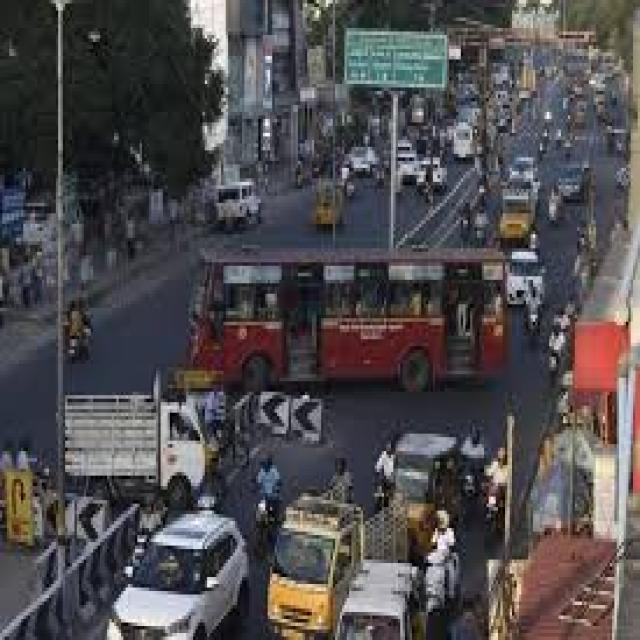bus: (189, 248, 505, 392)
car: (109, 511, 247, 640), (335, 560, 417, 640), (507, 248, 542, 304), (216, 182, 258, 227), (556, 157, 582, 203)
motorcycle: (426, 549, 456, 612), (458, 455, 482, 528), (484, 483, 503, 556), (254, 500, 275, 560), (67, 329, 88, 360)
person: (256, 458, 279, 518), (323, 458, 351, 504), (67, 301, 88, 357), (431, 511, 454, 556), (484, 448, 505, 490), (461, 423, 482, 462)
three wheeler: (396, 434, 456, 563)
truck: (270, 497, 407, 640), (65, 378, 202, 507), (500, 189, 533, 241)
